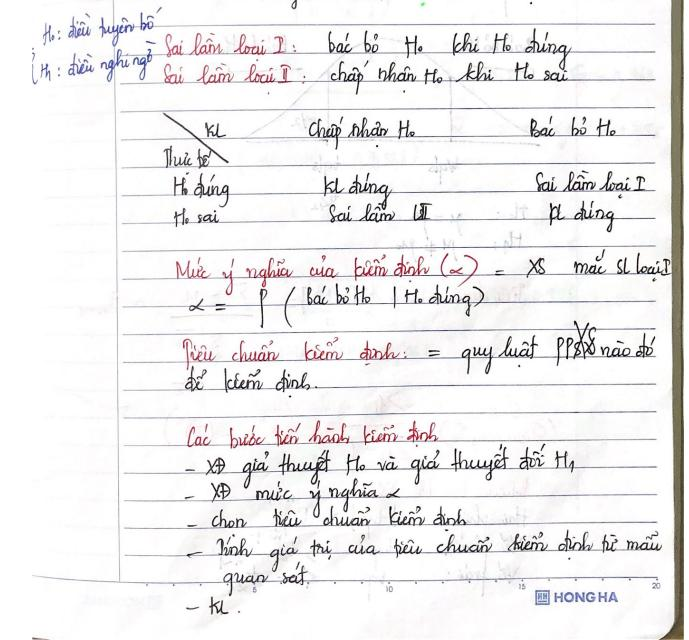text: (180, 319, 658, 377), (172, 249, 673, 296), (184, 525, 666, 573), (184, 442, 578, 489), (188, 283, 487, 334), (325, 25, 573, 71), (186, 502, 468, 537), (184, 477, 403, 520), (329, 59, 569, 98), (184, 417, 442, 450), (40, 5, 164, 49), (38, 39, 154, 84), (183, 363, 319, 399), (305, 114, 418, 153), (163, 29, 288, 61), (162, 59, 293, 88), (221, 560, 309, 599), (533, 169, 648, 198), (320, 169, 395, 211), (328, 200, 433, 227), (527, 114, 619, 142), (544, 198, 616, 233), (170, 171, 232, 208), (159, 145, 214, 177), (171, 207, 221, 229), (183, 597, 231, 618), (552, 590, 619, 605), (204, 120, 229, 141)
